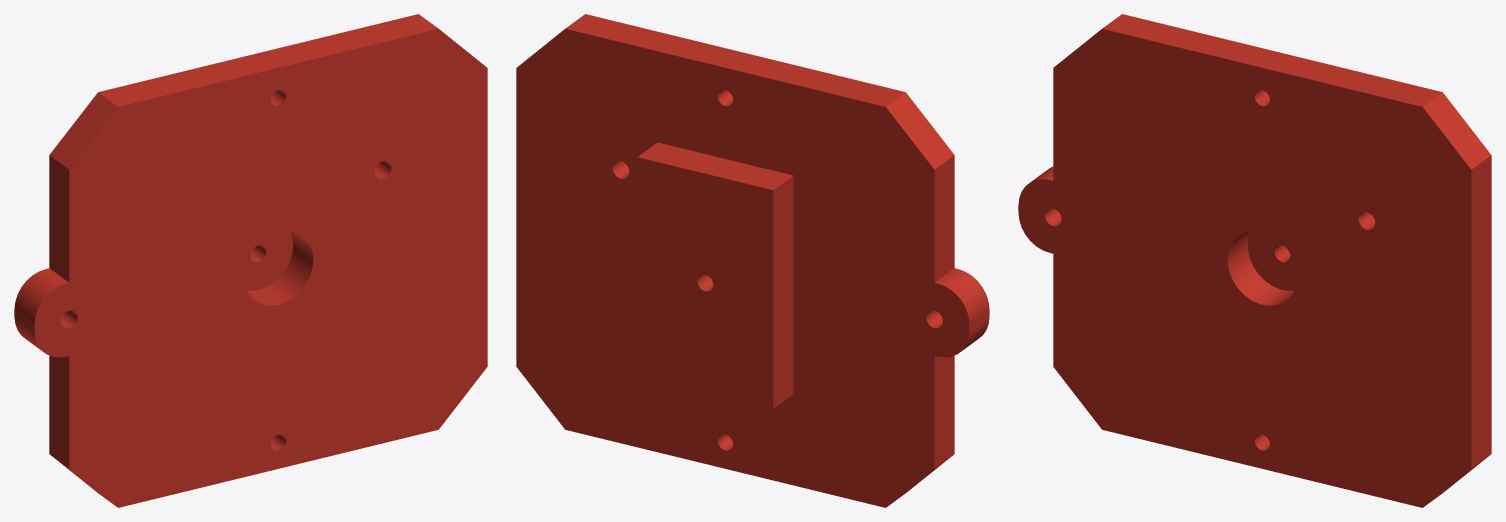
Rendered from Atas Slider.obj.
3 views of the same model, side by side, from view 1: azimuth 30°, elevation 25°; view 2: azimuth 150°, elevation 25°; view 3: azimuth 330°, elevation 25° (orthographic).
Parts seen in each view (by area): view 1: Solid1; view 2: Solid1; view 3: Solid1.
Boxes of the visible parts, x1,y1,x2,y2 form: Solid1: (14, 14, 487, 507); Solid1: (516, 14, 989, 507); Solid1: (1018, 14, 1491, 507).
Size of the model in its own units: 0.117 by 0.099 by 0.018.
